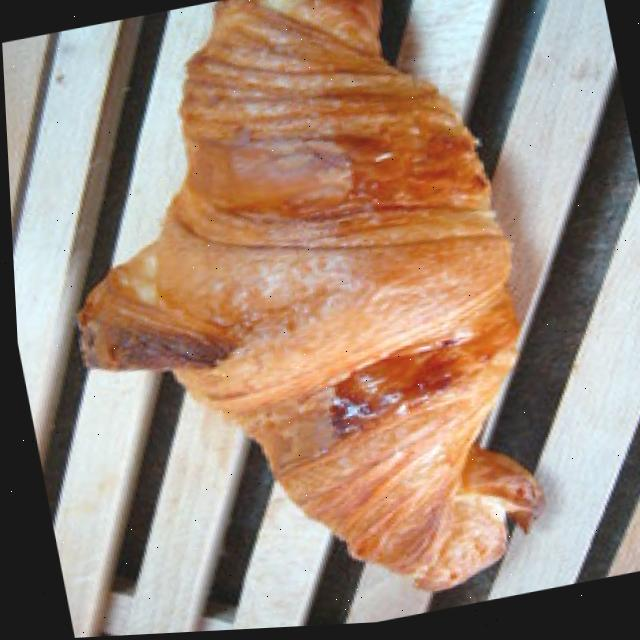面包点心: (3, 0, 597, 640)
